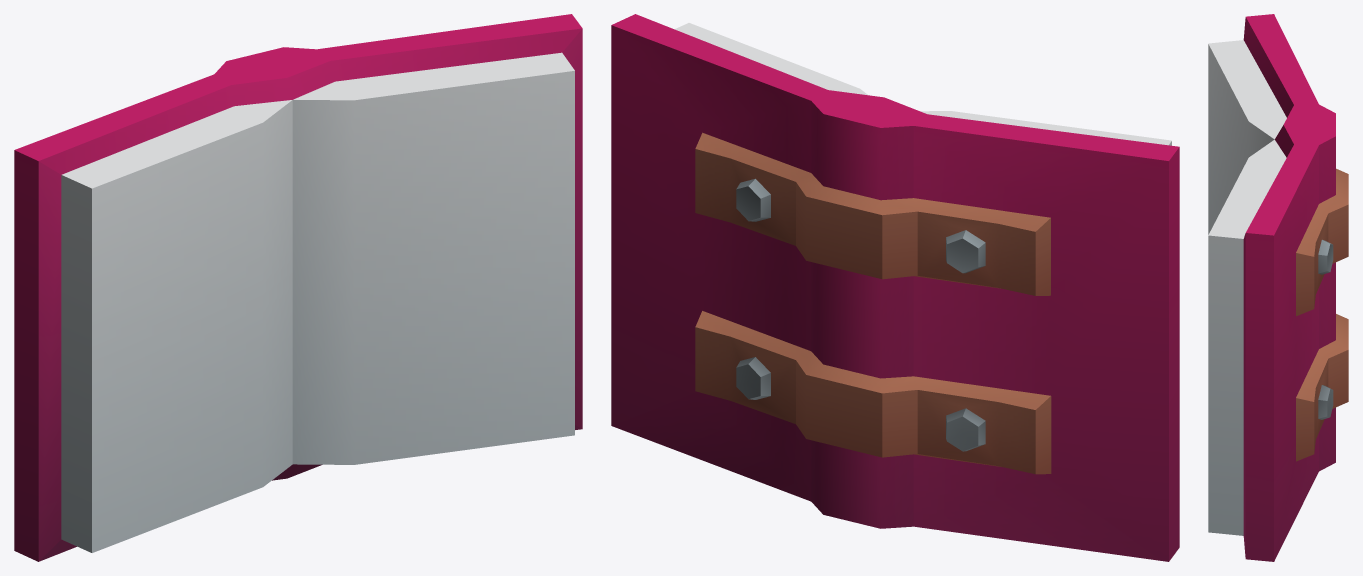
The model's file is spellbook_open.obj.
The picture shows the model from 3 angles, left to right: view 1: azimuth 30°, elevation 25°; view 2: azimuth 150°, elevation 25°; view 3: azimuth 270°, elevation 25°; orthographic projection. The views are drawn at different scales.
Parts seen in each view (by area): view 1: spellbook_open; view 2: spellbook_open; view 3: spellbook_open.
Part boxes in pixels (box(x1,y1,x2,y2)): spellbook_open: box(14, 14, 582, 561); spellbook_open: box(611, 14, 1179, 561); spellbook_open: box(1208, 14, 1348, 561).
Size of the model in its own units: 0.8282 by 0.5689 by 0.2219.
Materials: 1 (1 with a texture image).
